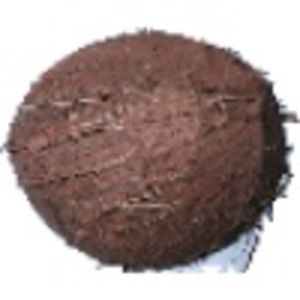coco: (1, 29, 300, 275)
